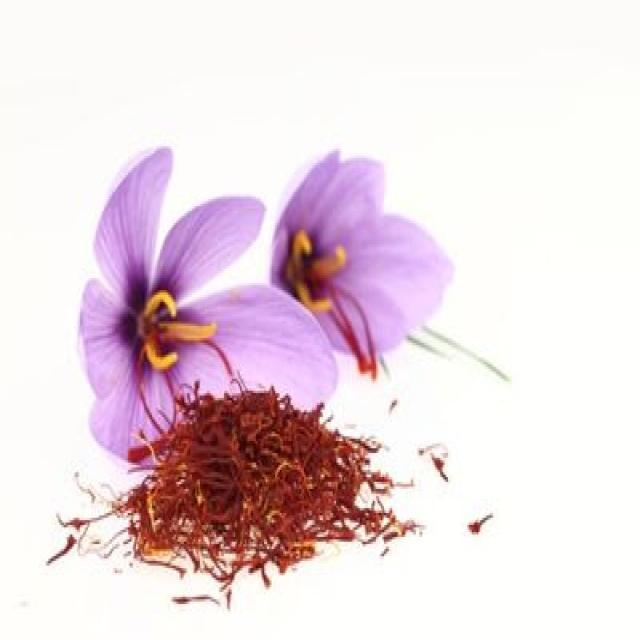Flower: (77, 180, 290, 412), (284, 168, 426, 334)
stigma: (324, 280, 382, 376), (124, 338, 162, 431), (203, 339, 237, 378)
